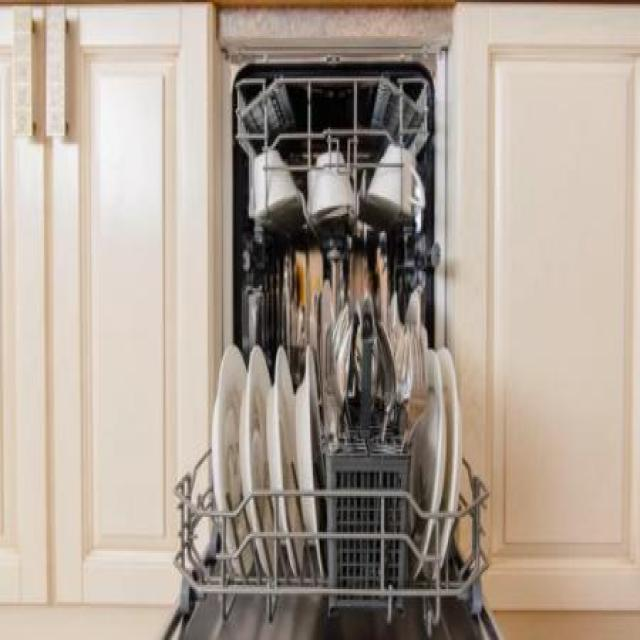dishwasher: (159, 0, 502, 638)
